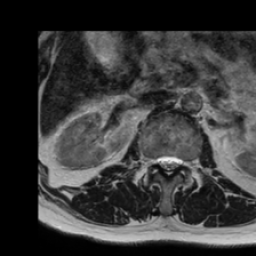CCS_normal: (165, 149, 173, 183)
LFS_stenosis: (181, 152, 187, 175)
LLS_normal: (173, 149, 181, 172)
RFS_stenosis: (147, 151, 157, 171)
RLS_normal: (157, 149, 165, 176)
